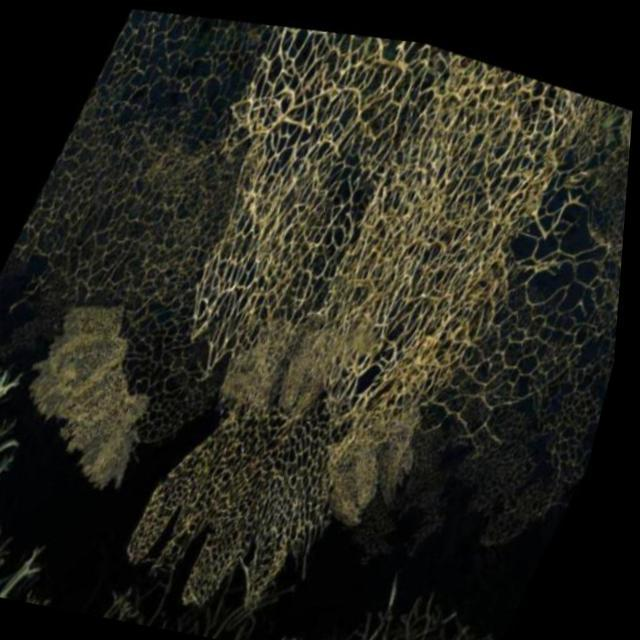Dead Coral: (50, 1, 637, 640)
